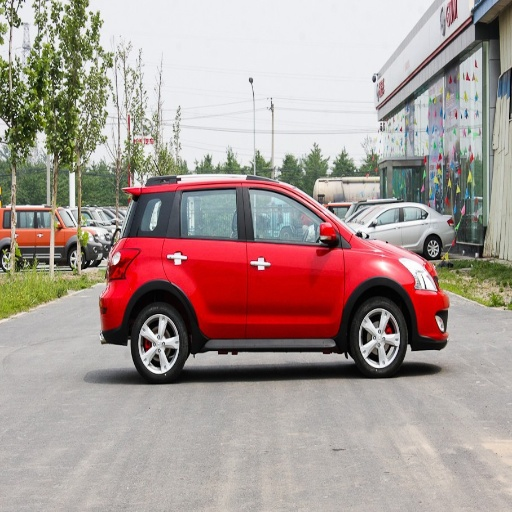back_right_door: (163, 184, 245, 335)
